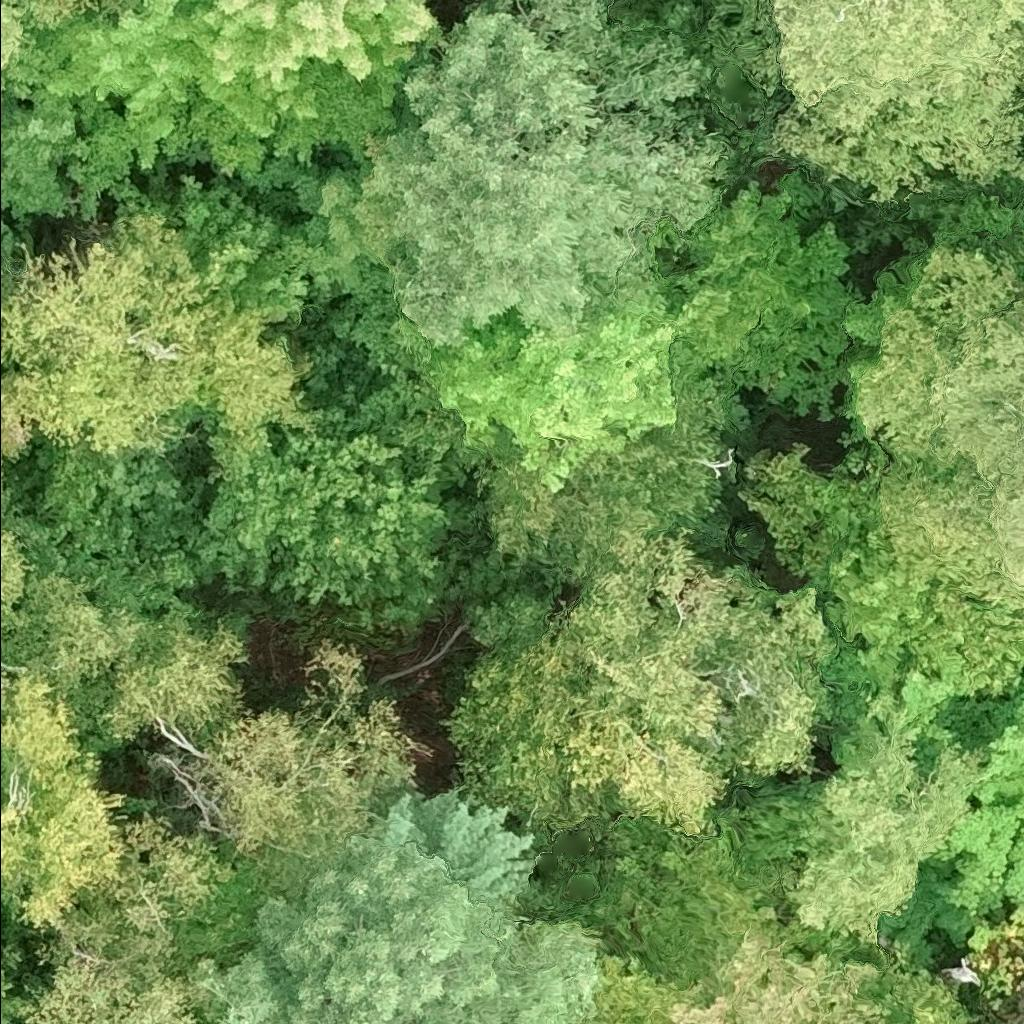crown: (372, 0, 723, 341), (0, 174, 326, 475), (0, 0, 445, 219), (82, 421, 448, 635), (771, 0, 1023, 201), (423, 297, 680, 488), (932, 299, 1023, 606), (0, 348, 37, 465), (17, 0, 121, 40), (0, 0, 37, 96), (0, 87, 2, 100)
